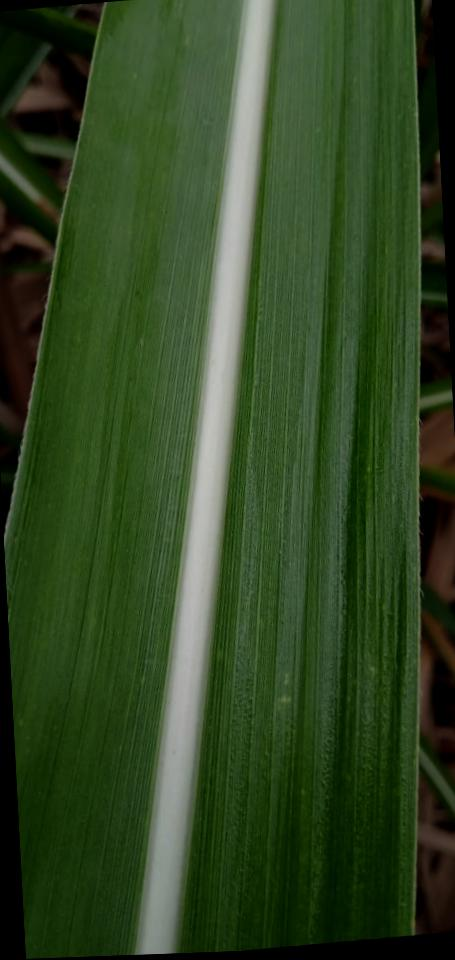Healthy: (4, 0, 418, 959)
